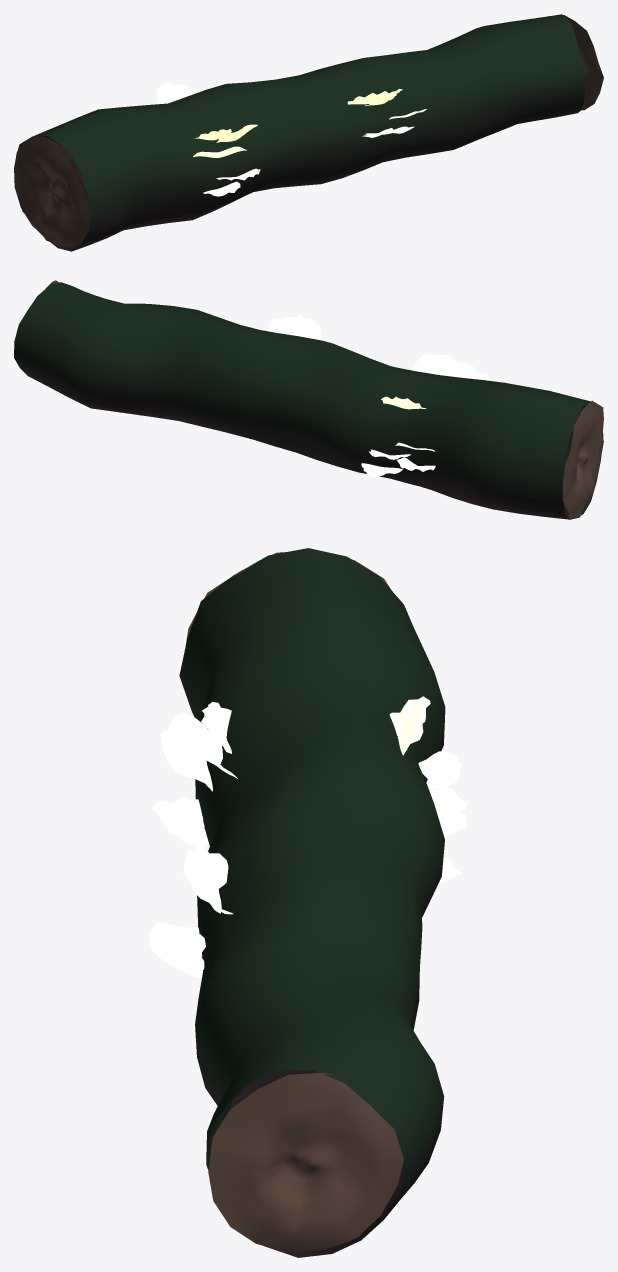
Rendered from log.glb.
The picture shows the model from 3 angles, top to bottom: view 1: azimuth 30°, elevation 25°; view 2: azimuth 150°, elevation 25°; view 3: azimuth 270°, elevation 25°; orthographic projection. The views are drawn at different scales.
Visible parts, largest first — view 1: log; view 2: log; view 3: log.
Boxes of the visible parts, <box> form: log: <box>14,14,603,251</box>; log: <box>14,280,603,519</box>; log: <box>149,548,468,1257</box>.
Bounding box in the file's own units: 7.3 × 1.49 × 1.87.
